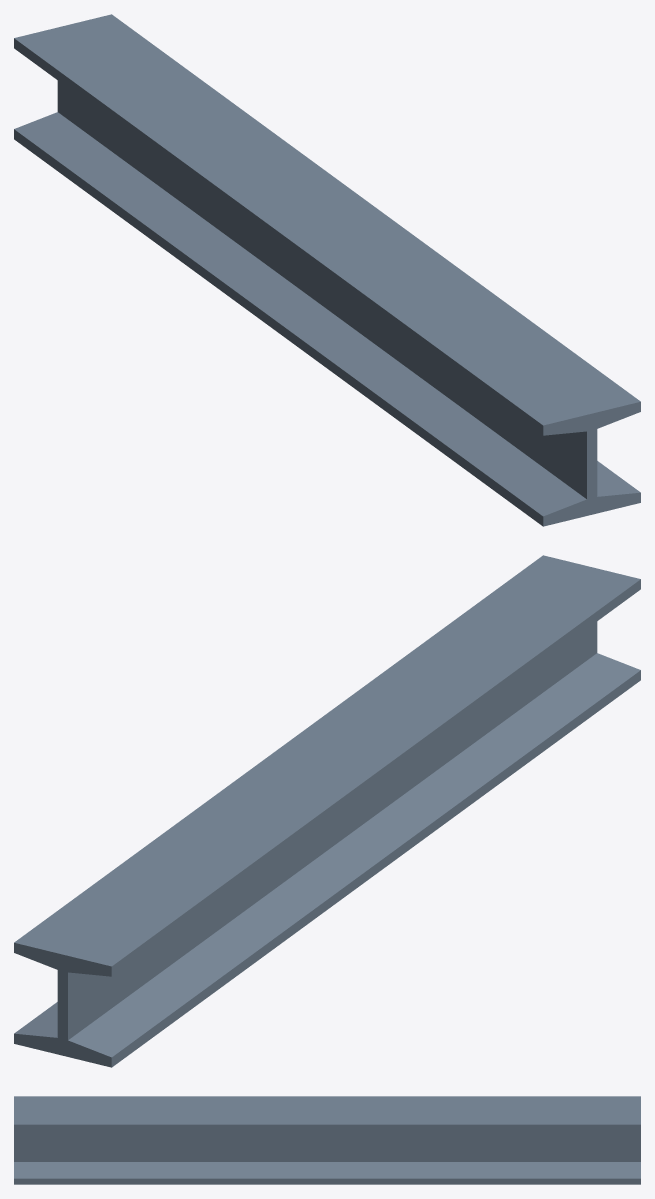
File: metal beam.fbx
3 renders of one model, top to bottom at view 1: azimuth 30°, elevation 25°; view 2: azimuth 150°, elevation 25°; view 3: azimuth 270°, elevation 25°, orthographic. The views are drawn at different scales.
Visible parts, largest first — view 1: Cube; view 2: Cube; view 3: Cube.
Part boxes in pixels (<box>): Cube: <box>14,14,640,526</box>; Cube: <box>14,555,640,1067</box>; Cube: <box>14,1096,640,1184</box>.
Size of the model in its own units: 25.87 by 25.57 by 242.
